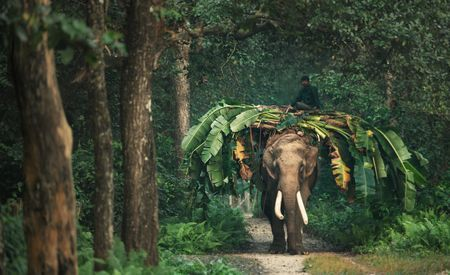Indian Elephant: (250, 126, 340, 261)
